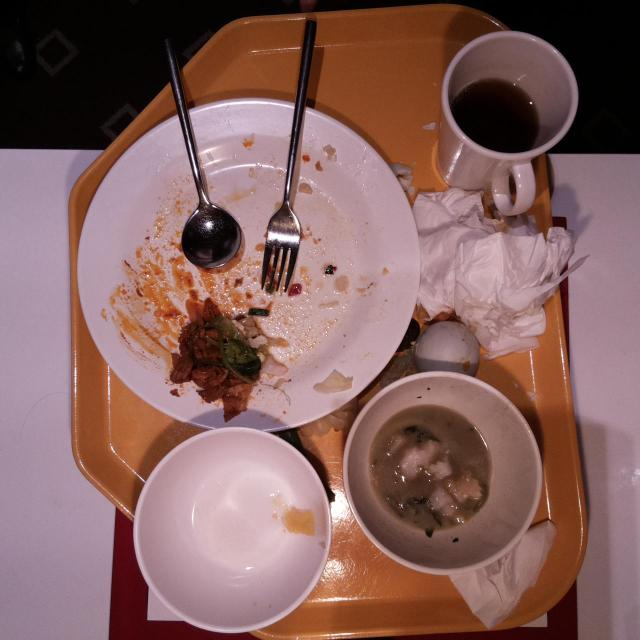Egg-shell: (412, 320, 480, 384)
Vegetable: (216, 316, 262, 380)
